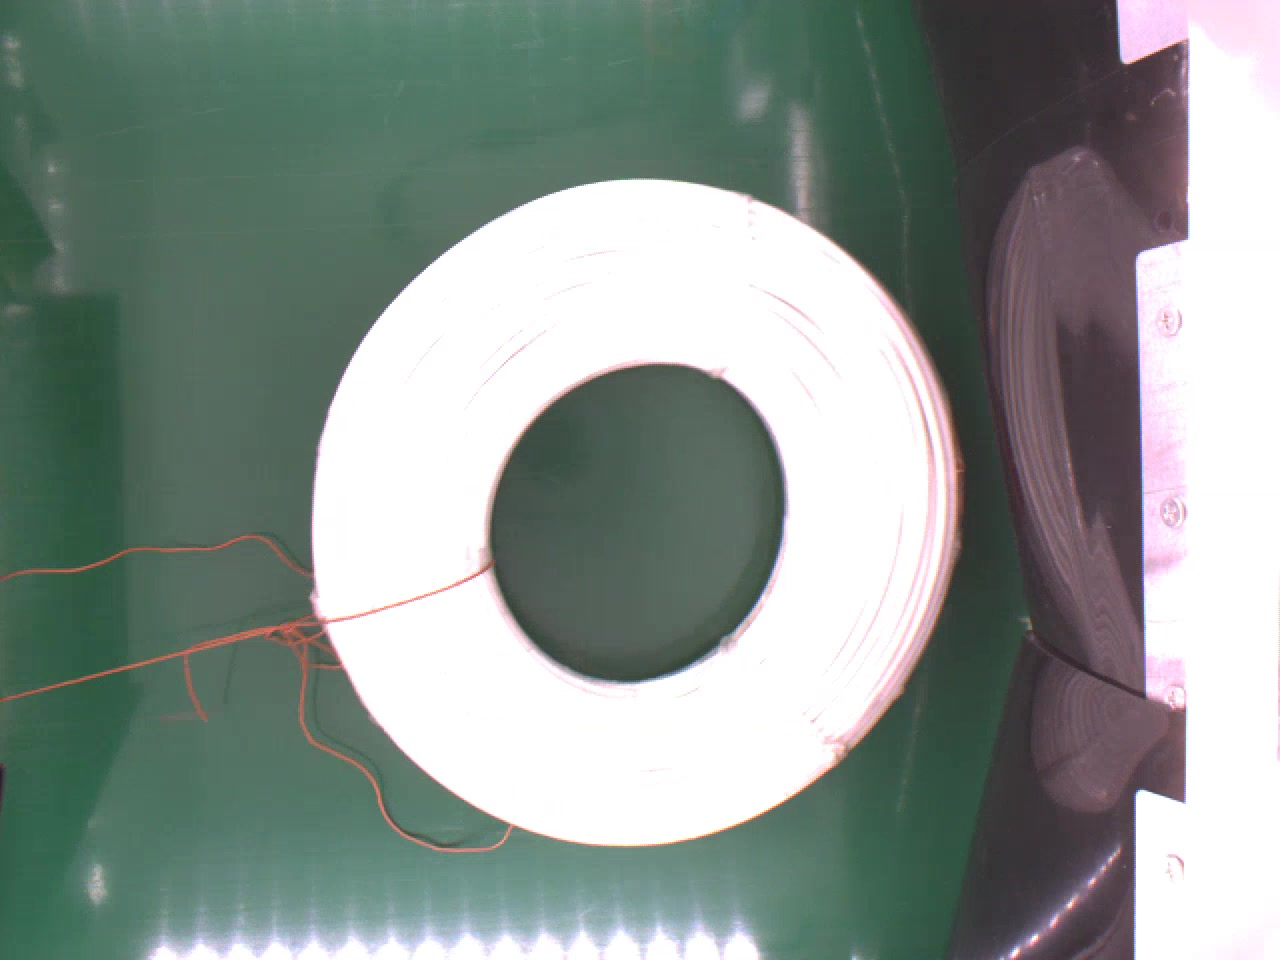white: (306, 169, 971, 848)
